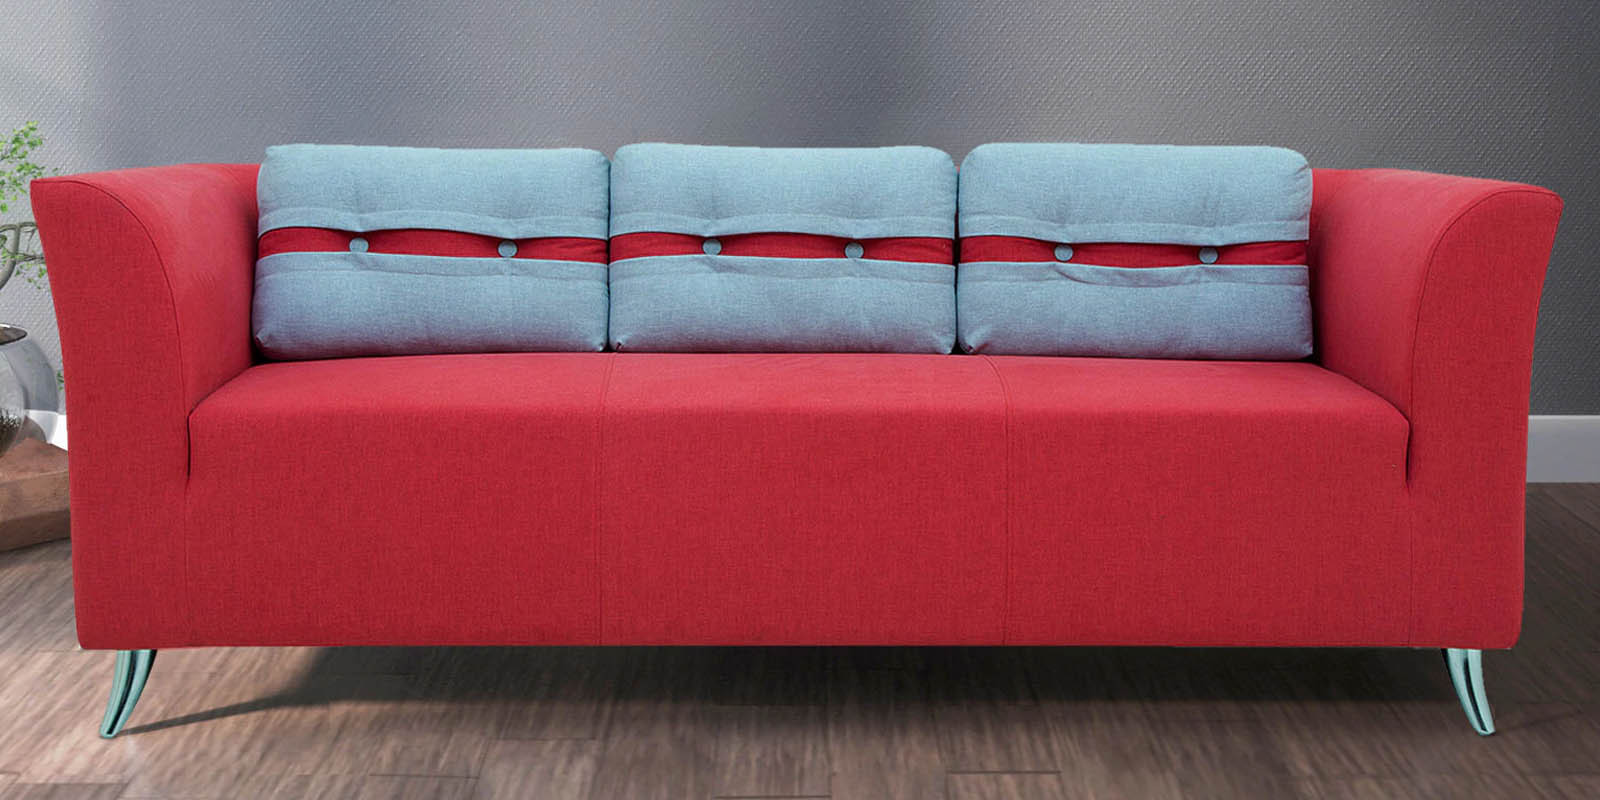Iowa Three Seater Sofa in Crimson Red Colour by Furnitech: (26, 131, 1558, 747)
